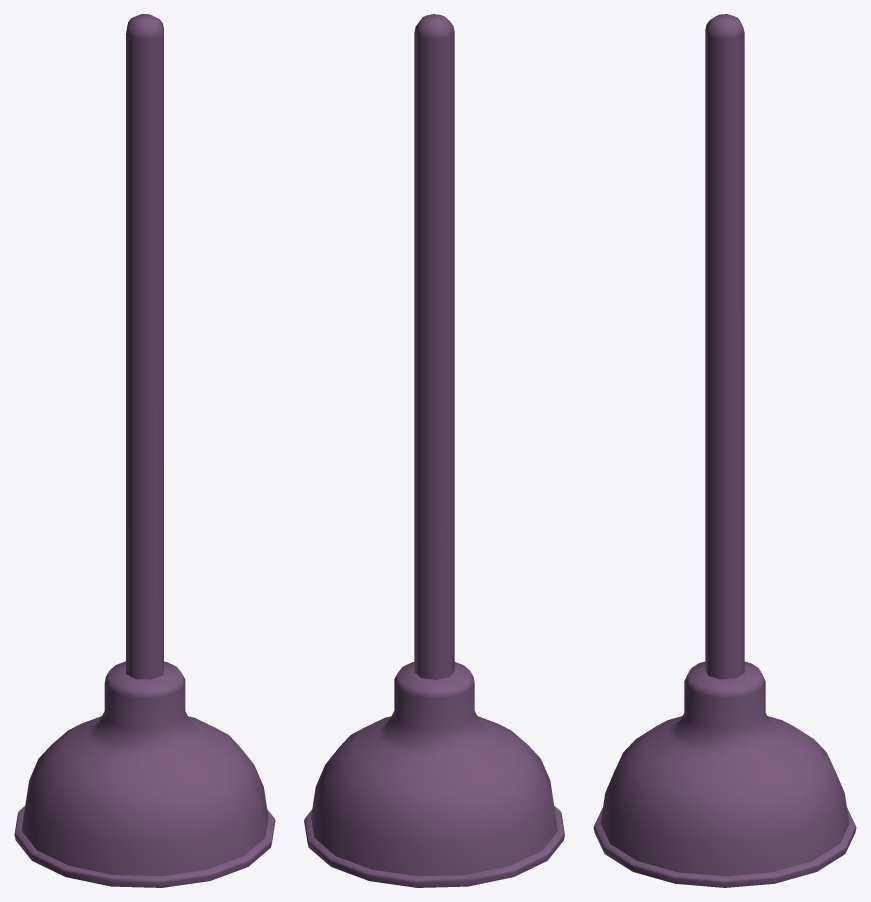
Rendered from mesh_plunger.fbx.
The picture shows the model from 3 angles, left to right: view 1: azimuth 30°, elevation 25°; view 2: azimuth 150°, elevation 25°; view 3: azimuth 270°, elevation 25°; orthographic projection.
Visible parts, largest first — view 1: Plunger; view 2: Plunger; view 3: Plunger.
Boxes of the visible parts, x1,y1,x2,y2 form: Plunger: (14, 14, 275, 887); Plunger: (304, 14, 564, 887); Plunger: (593, 14, 856, 887).
Bounding box in the file's own units: 19.2 × 65.78 × 19.2.
